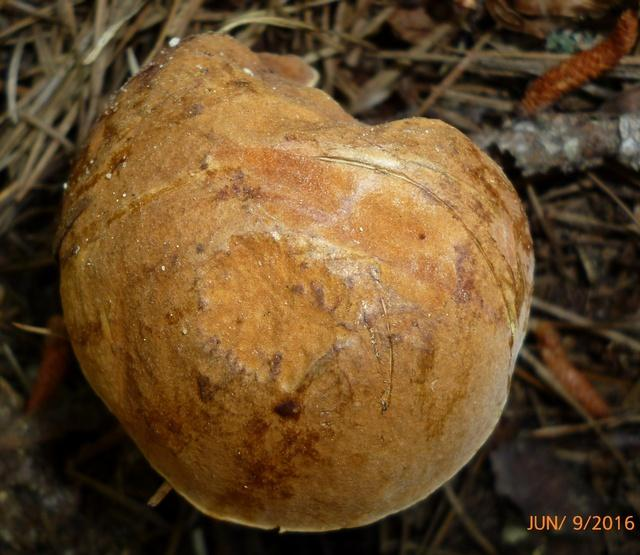poisonous_mushroom: (52, 30, 537, 534)
